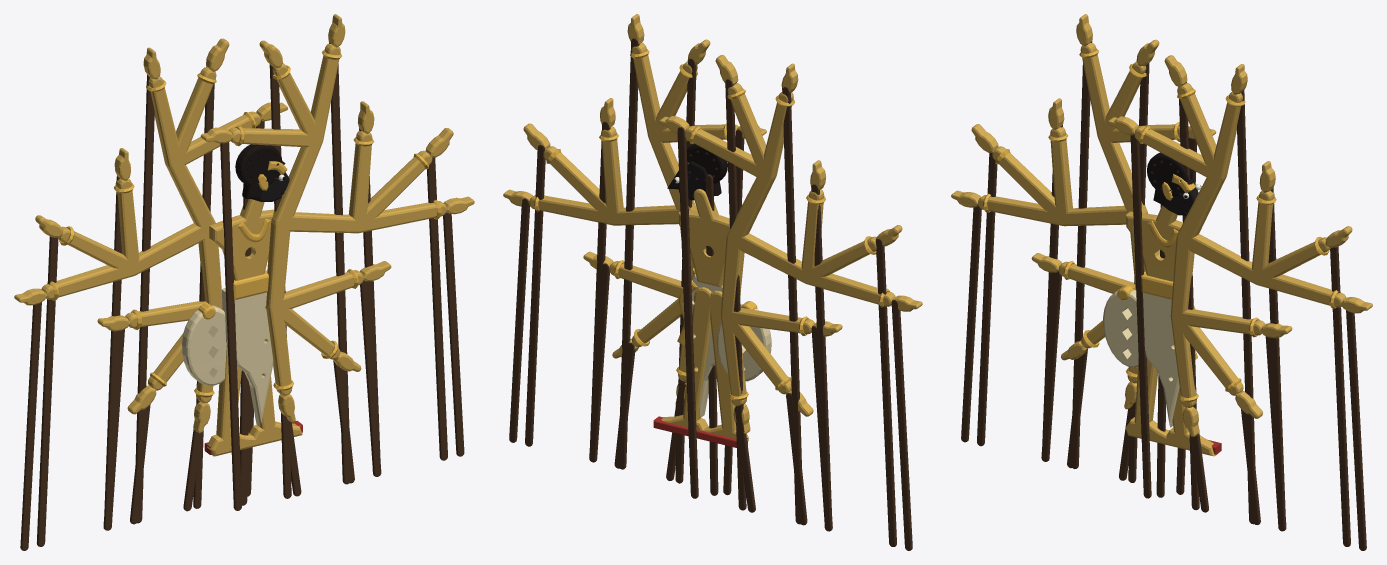
The model's file is yudhistira.glb.
The picture shows the model from 3 angles, left to right: view 1: azimuth 30°, elevation 25°; view 2: azimuth 150°, elevation 25°; view 3: azimuth 330°, elevation 25°; orthographic projection. The views are drawn at different scales.
Parts seen in each view (by area): view 1: body, front_20, back_20, back_10, front_10, front_22, front_11, back_11, front_00, back_12, back_21, front_02 (+8 smaller); view 2: body, back_20, front_20, back_10, back_22, front_10, front_11, back_11, back_21, back_12, back_00, front_12 (+8 smaller); view 3: body, front_20, back_20, front_10, back_10, front_22, back_11, front_11, front_00, front_12, front_21, back_12 (+8 smaller).
Part boxes in pixels (x1,y1,x2,y2): body: (181, 183, 302, 505); front_20: (271, 14, 349, 484); back_20: (135, 47, 215, 523); back_10: (14, 223, 211, 550); front_10: (271, 196, 474, 456); front_22: (200, 125, 316, 510); front_11: (358, 128, 453, 460); back_11: (35, 215, 135, 546); front_00: (265, 217, 301, 496); back_12: (104, 148, 139, 530); back_21: (165, 38, 229, 508); front_02: (266, 261, 391, 476); body: (653, 174, 771, 495); back_20: (727, 63, 801, 524); front_20: (619, 14, 697, 469); back_10: (732, 233, 922, 550); back_22: (659, 116, 774, 498); front_10: (503, 189, 678, 442); front_11: (523, 123, 609, 446); back_11: (805, 225, 902, 546); back_21: (715, 55, 775, 510); back_12: (801, 160, 832, 531); back_00: (721, 234, 755, 512); front_12: (590, 98, 623, 462); body: (1103, 204, 1221, 497); front_20: (1177, 64, 1255, 524); back_20: (1072, 14, 1147, 468); front_10: (1177, 234, 1372, 550); back_10: (951, 190, 1147, 442); front_22: (1108, 116, 1214, 498); back_11: (971, 124, 1064, 446); front_11: (1259, 226, 1352, 546); front_00: (1170, 234, 1208, 512); front_12: (1251, 161, 1285, 530); front_21: (1164, 55, 1226, 510); back_12: (1042, 98, 1072, 461).
Size of the model in its own units: 1.31 by 1.33 by 0.1172.
